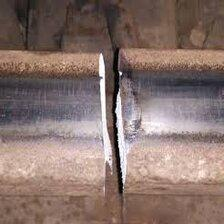railway-gap: (27, 46, 195, 197)
